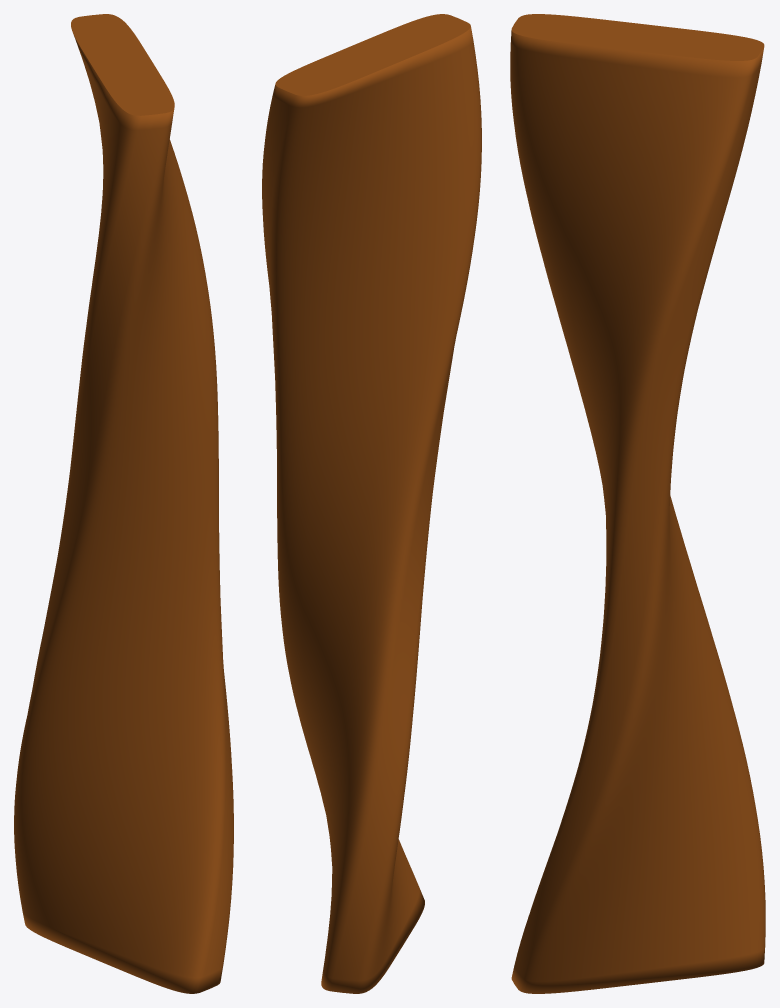
The model's file is BronzeTwist.obj.
3 renders of one model, left to right at view 1: azimuth 30°, elevation 25°; view 2: azimuth 150°, elevation 25°; view 3: azimuth 270°, elevation 25°, orthographic. The views are drawn at different scales.
Visible parts, largest first — view 1: BronzeTwist; view 2: BronzeTwist; view 3: BronzeTwist.
Boxes of the visible parts, x1,y1,x2,y2 form: BronzeTwist: [14, 14, 233, 993]; BronzeTwist: [262, 14, 481, 993]; BronzeTwist: [510, 14, 765, 993].
Size of the model in its own units: 0.2096 by 1.13 by 0.2798.
